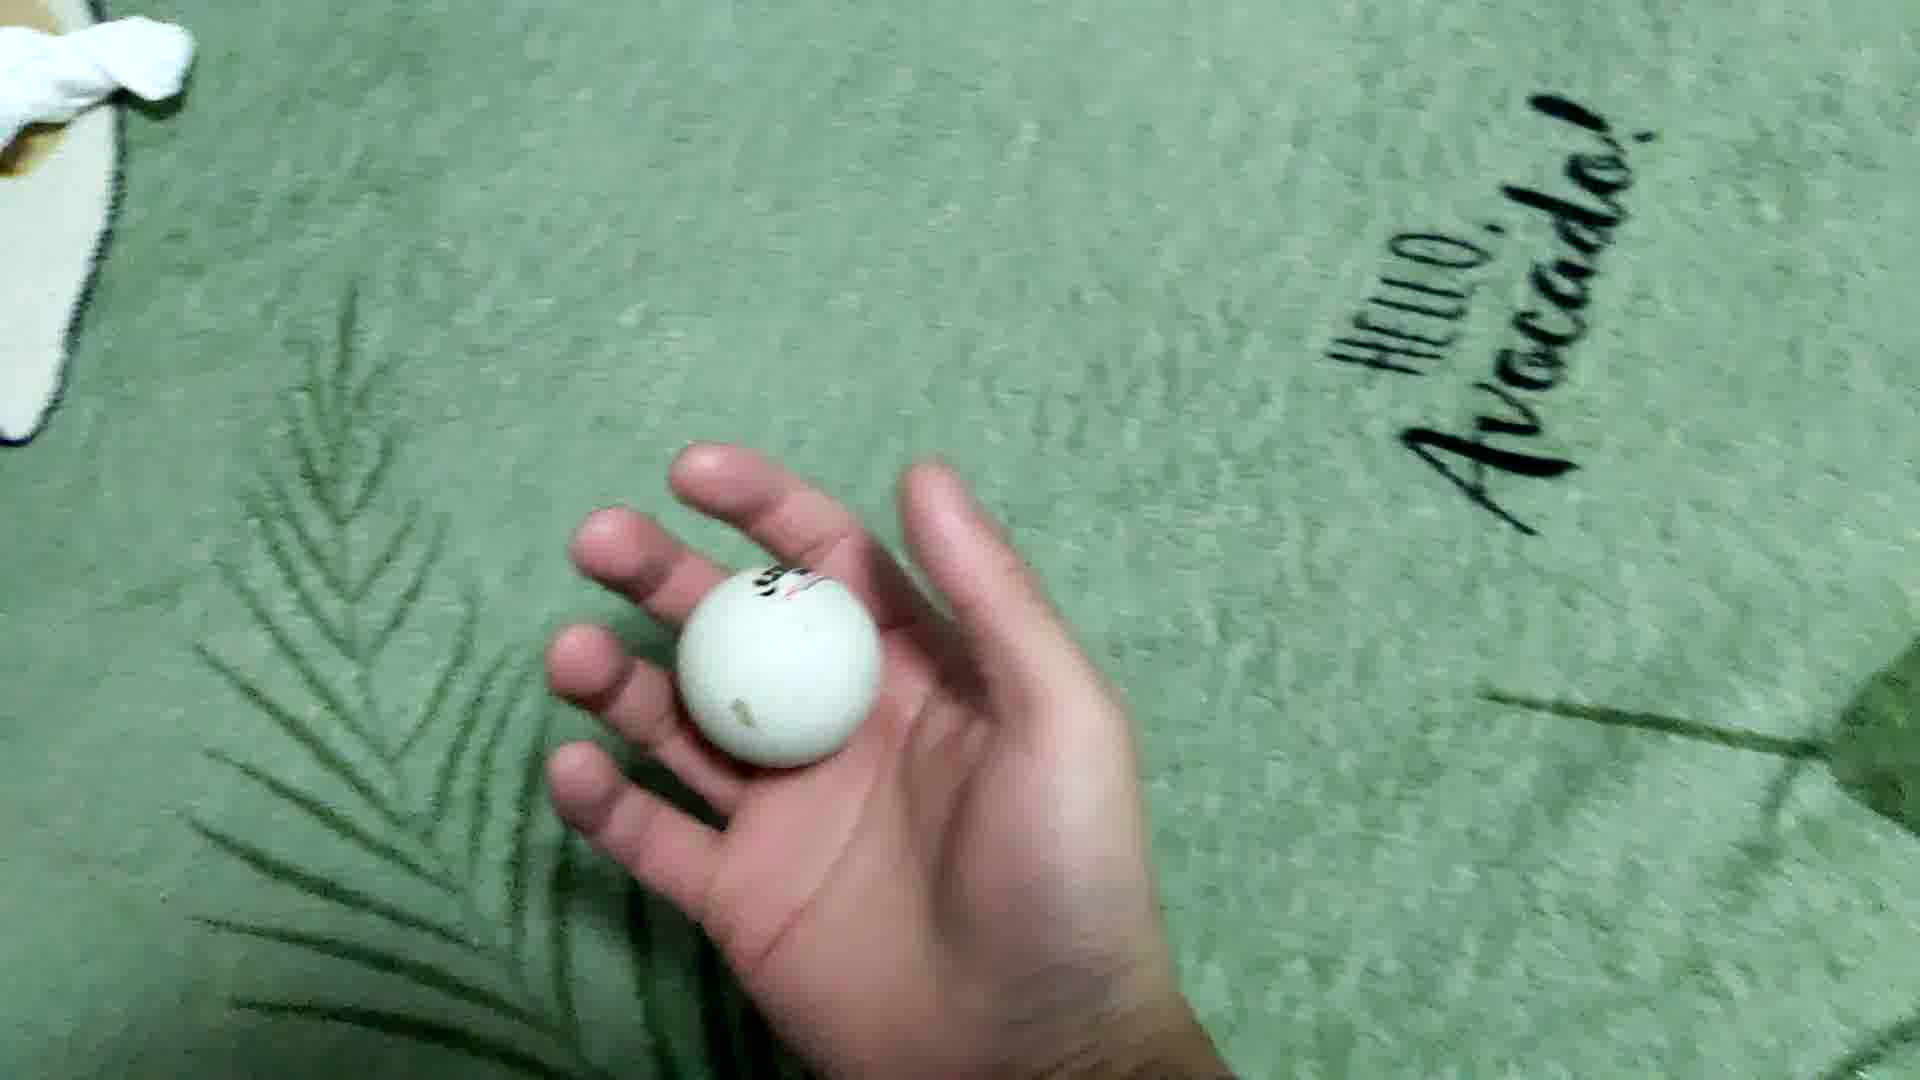Ball: (675, 566, 884, 761)
